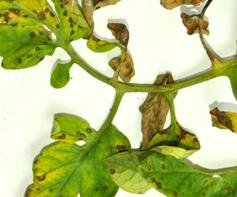Tomato Septoria leaf spot: (13, 108, 139, 197), (101, 131, 237, 197), (0, 0, 87, 68)
